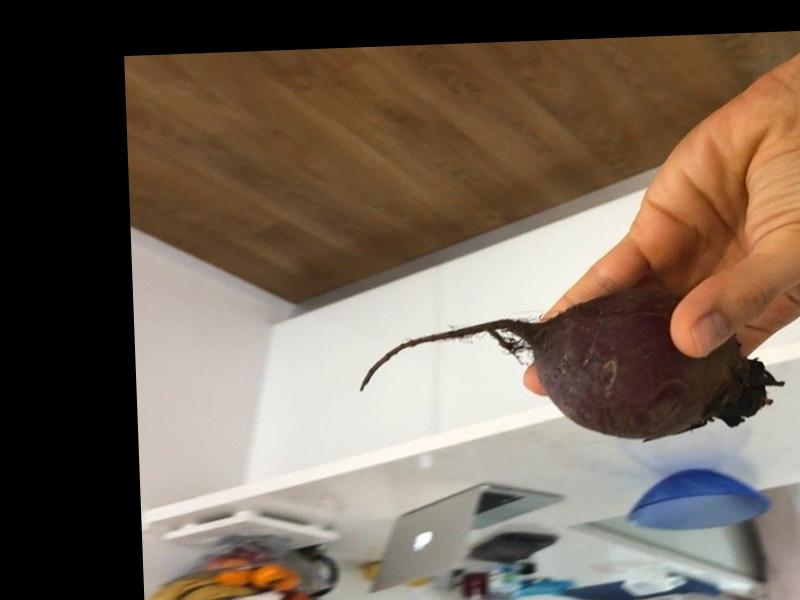Beet: (356, 287, 781, 449)
